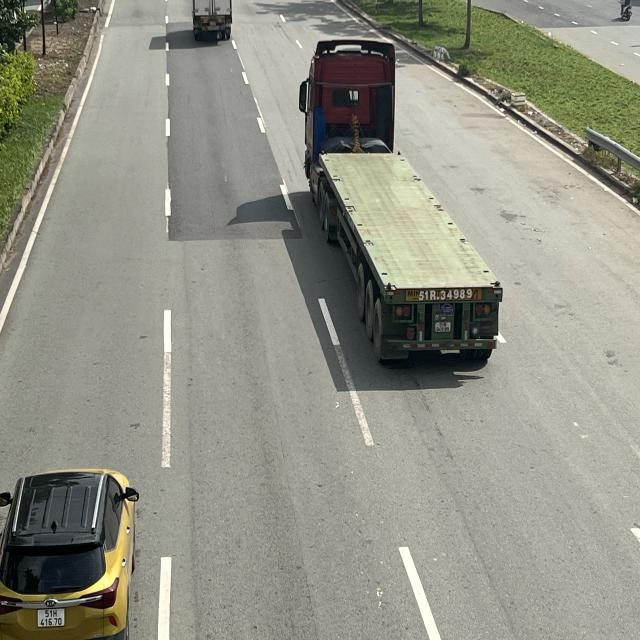car: (0, 468, 137, 638)
container: (297, 38, 504, 363)
